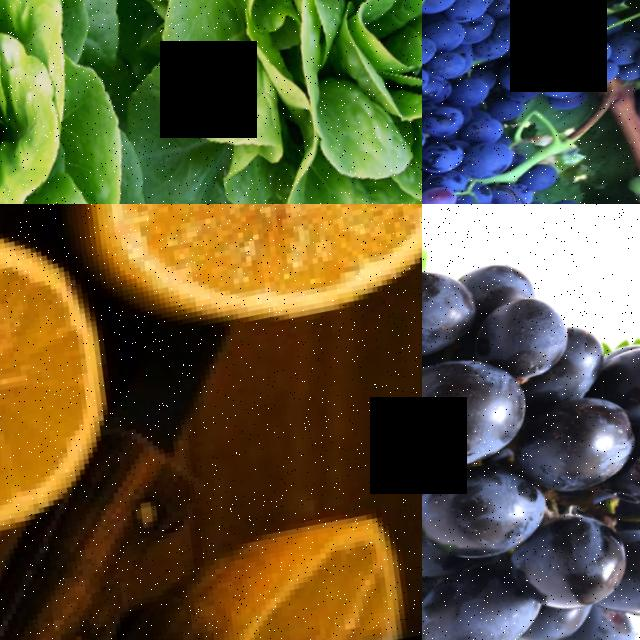grapes: (422, 204, 640, 640), (422, 55, 546, 204), (422, 0, 543, 101)
lemon: (72, 204, 422, 349), (0, 204, 148, 545), (125, 497, 422, 640)
lettuce: (56, 0, 422, 204), (0, 0, 214, 204)
